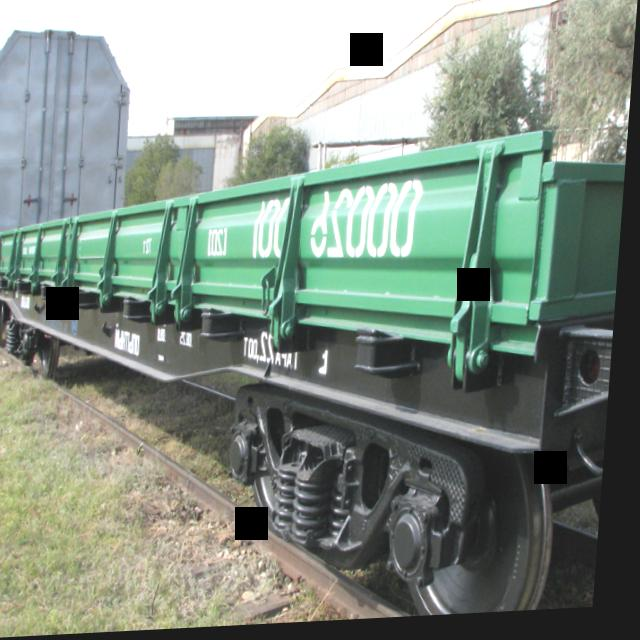flatcar: (0, 254, 624, 640)
